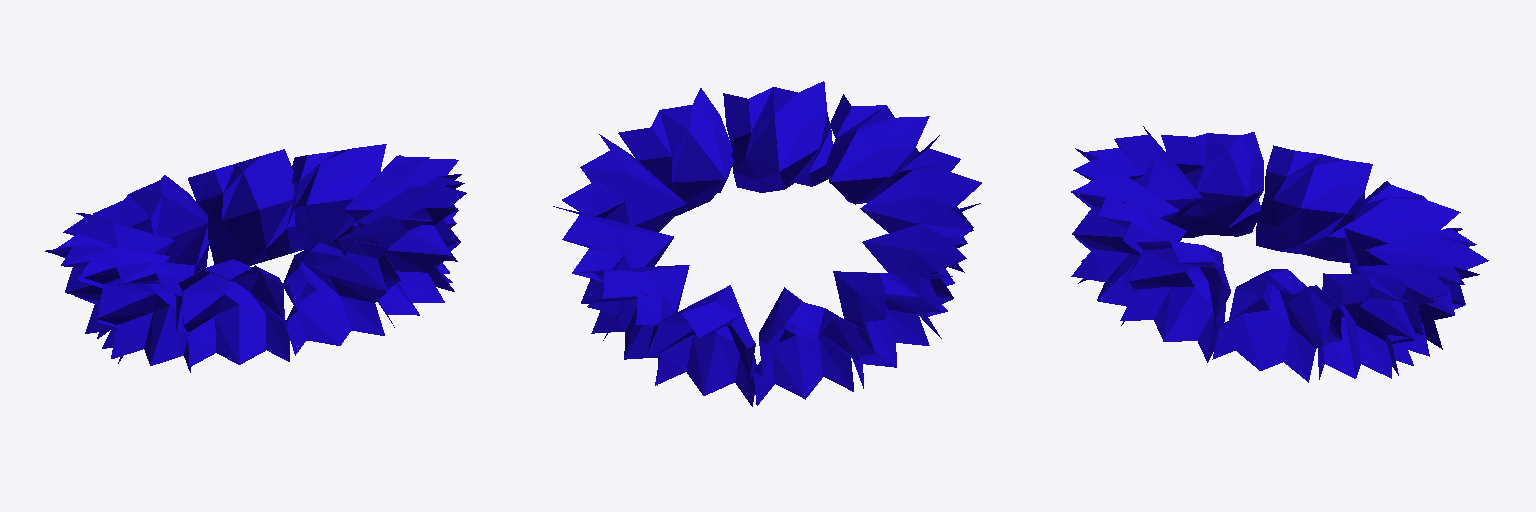
The model's file is flower_head.obj.
The picture shows the model from 3 angles: view 1: azimuth 30°, elevation 25°; view 2: azimuth 150°, elevation 25°; view 3: azimuth 270°, elevation 25°; orthographic projection.
Visible parts, largest first — view 1: Plane; view 2: Plane; view 3: Plane.
Part boxes in pixels (x1,y1,x2,y2): Plane: (45,144,466,372); Plane: (553,81,981,406); Plane: (1071,126,1488,382).
Size of the model in its own units: 0.3243 by 0.146 by 0.3158.